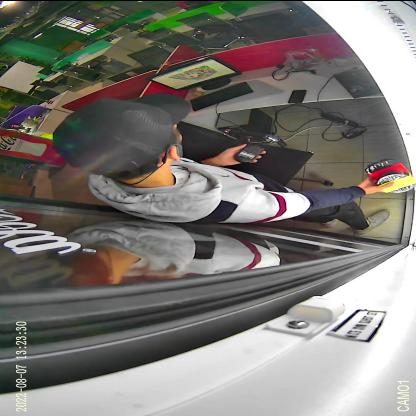red: (365, 157, 411, 183)
yellow: (376, 170, 414, 192)
